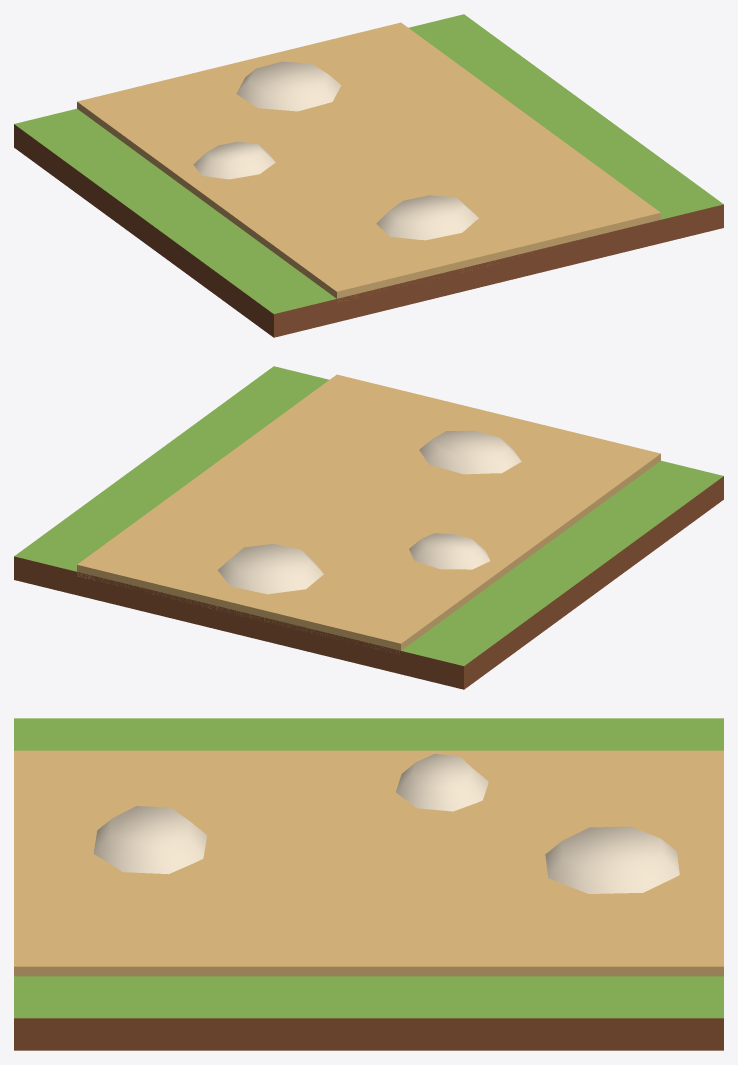
File: path_tile_straight.glb
3 renders of one model, top to bottom at view 1: azimuth 30°, elevation 25°; view 2: azimuth 150°, elevation 25°; view 3: azimuth 270°, elevation 25°, orthographic. The views are drawn at different scales.
Visible parts, largest first — view 1: path_tile_straight; view 2: path_tile_straight; view 3: path_tile_straight.
Part boxes in pixels (box(x1,y1,x2,y2)): path_tile_straight: box(14, 14, 723, 337); path_tile_straight: box(14, 366, 723, 689); path_tile_straight: box(14, 718, 723, 1050).
Size of the model in its own units: 1 by 0.09 by 1.
1 material, 1 textured.
